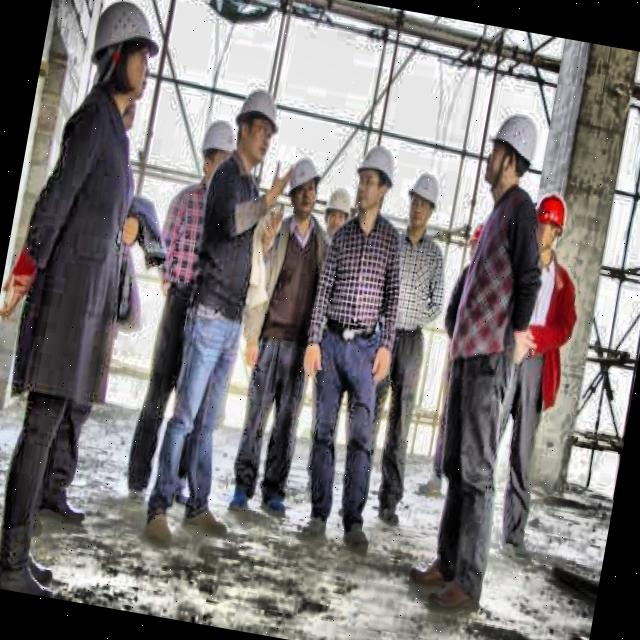helmet: (82, 0, 168, 124), (479, 96, 549, 202), (226, 90, 284, 170), (192, 113, 243, 196), (347, 147, 400, 224), (526, 190, 574, 268), (279, 150, 327, 228), (401, 162, 448, 240), (316, 184, 358, 248)
